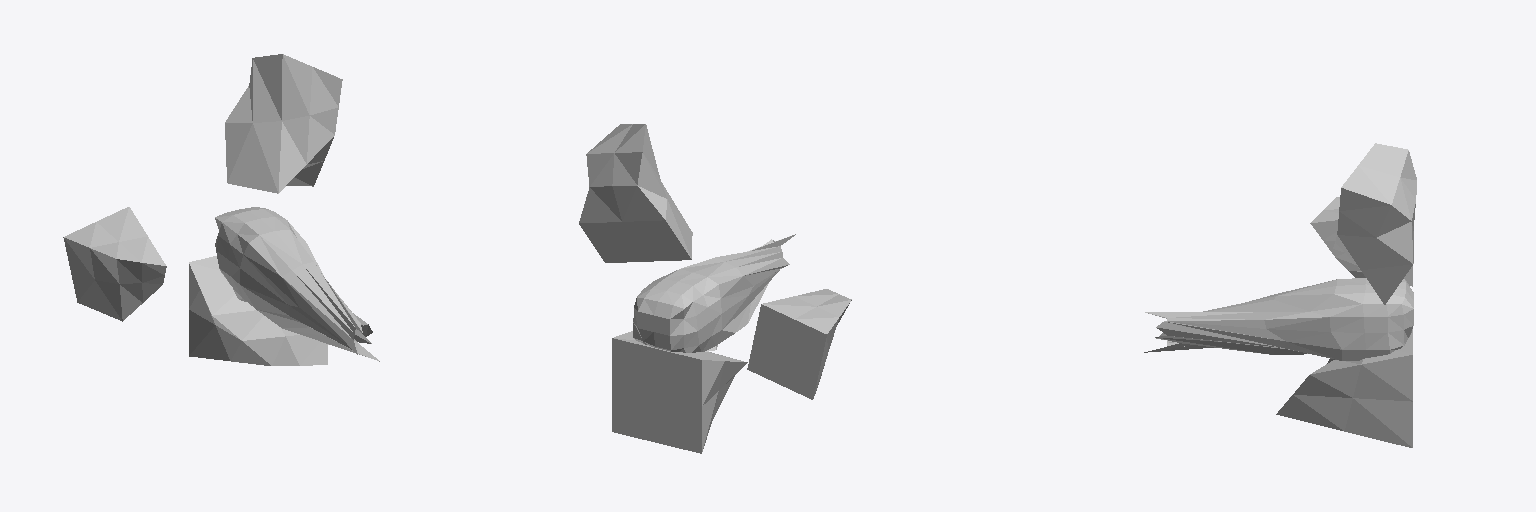
File: interactable_seeds.obj
3 renders of one model, left to right at view 1: azimuth 30°, elevation 25°; view 2: azimuth 150°, elevation 25°; view 3: azimuth 270°, elevation 25°, orthographic.
Parts seen in each view (by area): view 1: Cube.001, Cube.003, Cube.002, Cube; view 2: Cube.001, Cube.002, Cube.003, Cube; view 3: Cube.003, Cube.001, Cube.002, Cube.
Part boxes in pixels (bbox=[...]): Cube.001: bbox=[225, 54, 342, 193]; Cube.003: bbox=[215, 207, 379, 361]; Cube.002: bbox=[189, 256, 328, 365]; Cube: bbox=[63, 207, 166, 321]; Cube.001: bbox=[579, 124, 692, 262]; Cube.002: bbox=[612, 331, 747, 453]; Cube.003: bbox=[633, 234, 795, 352]; Cube: bbox=[747, 289, 851, 399]; Cube.003: bbox=[1144, 278, 1413, 360]; Cube.001: bbox=[1333, 143, 1416, 304]; Cube.002: bbox=[1276, 329, 1412, 447]; Cube: bbox=[1310, 197, 1412, 286].
Size of the model in its own units: 5.6 by 6.34 by 5.3.